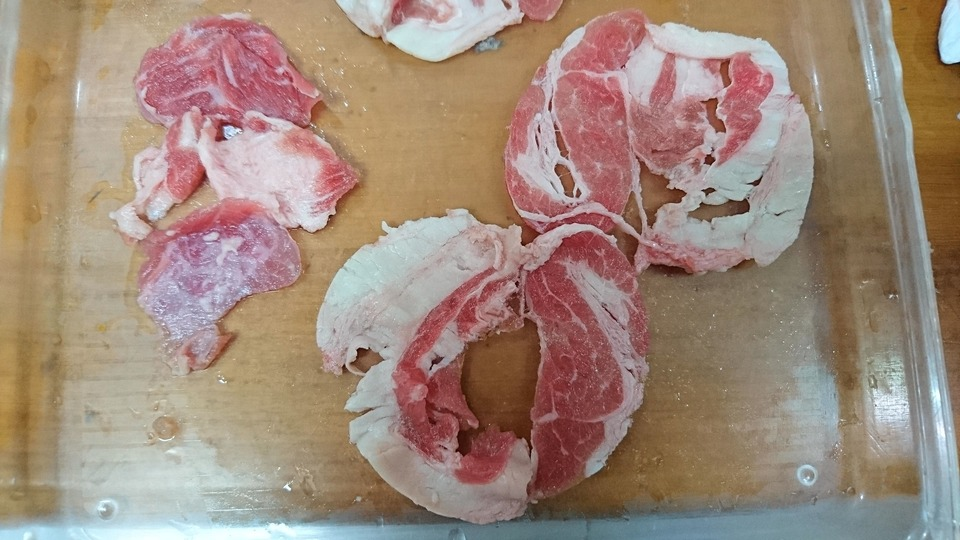restructured meat: (317, 209, 651, 521), (492, 1, 816, 278), (134, 13, 338, 376)
